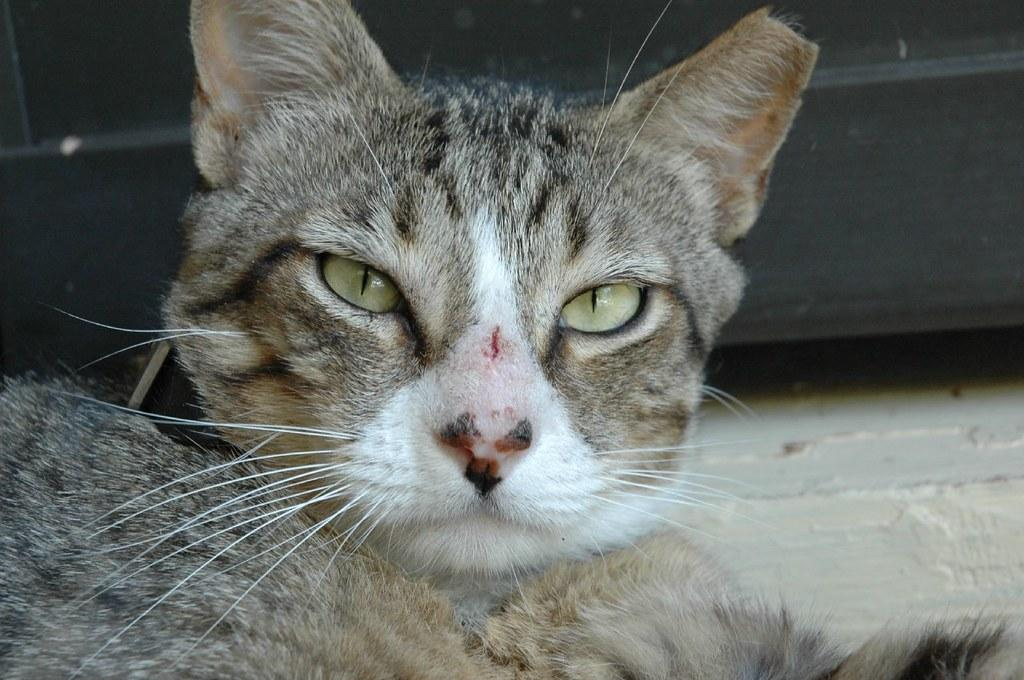cut: (450, 308, 534, 400)
